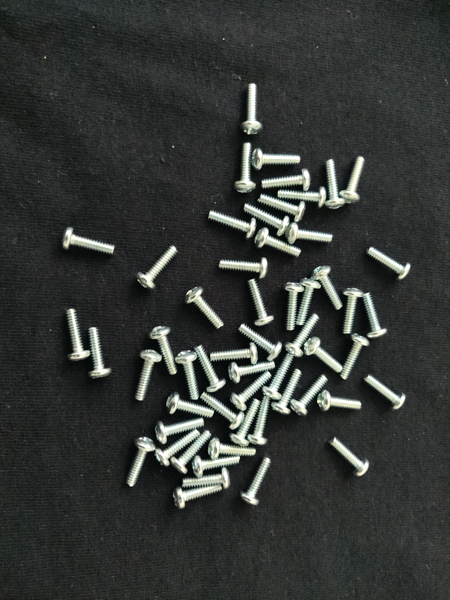shortscrew: (136, 245, 178, 291), (171, 431, 212, 475), (328, 436, 370, 477), (200, 392, 245, 430), (154, 430, 199, 468), (365, 246, 411, 283), (237, 324, 283, 361), (185, 286, 224, 329), (290, 374, 328, 418), (284, 314, 321, 359), (269, 368, 303, 416), (132, 350, 163, 402), (363, 375, 406, 412), (61, 227, 115, 256), (303, 336, 344, 374), (193, 346, 226, 393), (254, 227, 302, 259), (126, 437, 156, 488), (245, 203, 290, 237), (148, 327, 178, 377), (311, 266, 343, 312), (241, 458, 271, 507), (230, 400, 261, 447), (152, 417, 204, 445), (262, 355, 294, 400), (208, 210, 256, 239), (340, 334, 370, 380), (65, 309, 91, 361), (258, 194, 306, 222), (166, 392, 214, 420), (173, 484, 223, 510), (262, 169, 311, 195), (363, 293, 389, 341), (176, 351, 201, 400), (88, 328, 112, 379), (340, 156, 366, 203), (247, 396, 271, 446), (208, 437, 257, 461), (251, 148, 301, 171), (241, 84, 263, 136), (234, 143, 256, 194), (229, 361, 276, 384), (286, 223, 333, 246), (297, 279, 321, 324), (183, 468, 231, 490), (192, 456, 240, 478), (284, 282, 305, 332), (219, 258, 268, 279), (278, 187, 327, 208), (342, 289, 365, 333), (317, 390, 362, 412), (211, 342, 259, 362)
